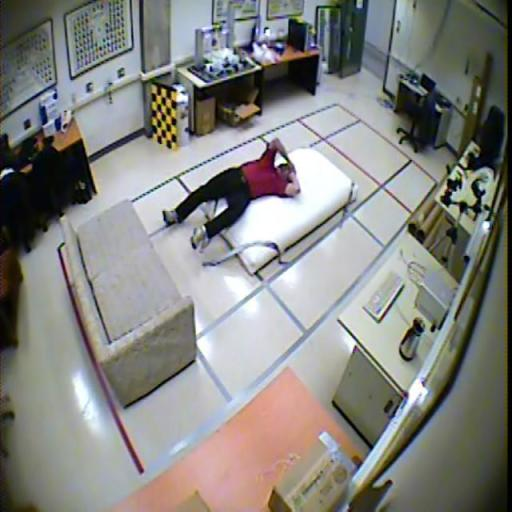Fall: (163, 137, 302, 250)
